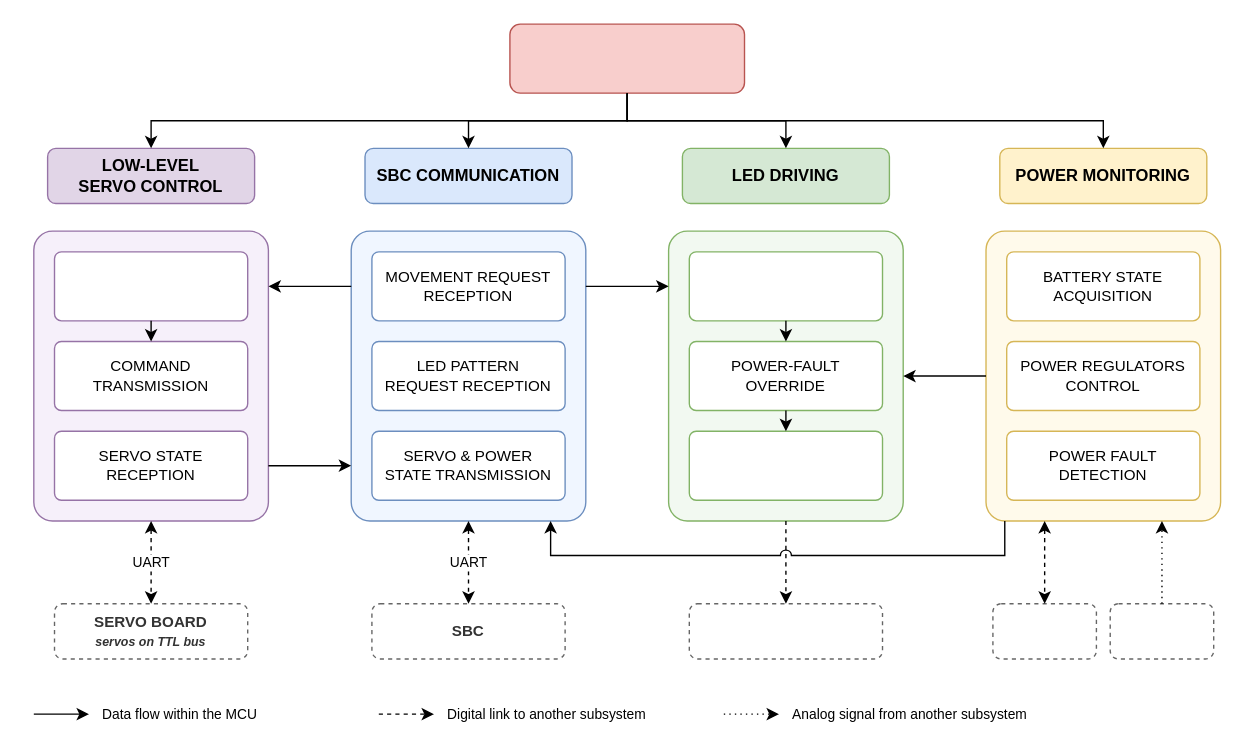
This 1245x752 diagram has some shape labels left out. Each missing label, with the centre of its shape:
BATTERY charge IC: pixel 1044 630
BUCKS/OTH.: pixel 1161 630
LED OUTPUT driven from MCU pins: pixel 785 465
LEDs: pixel 785 630
MCU: pixel 627 58
PATTERN SELECTION: pixel 785 285
SERVO COMMAND COMPUTATION: pixel 150 285
